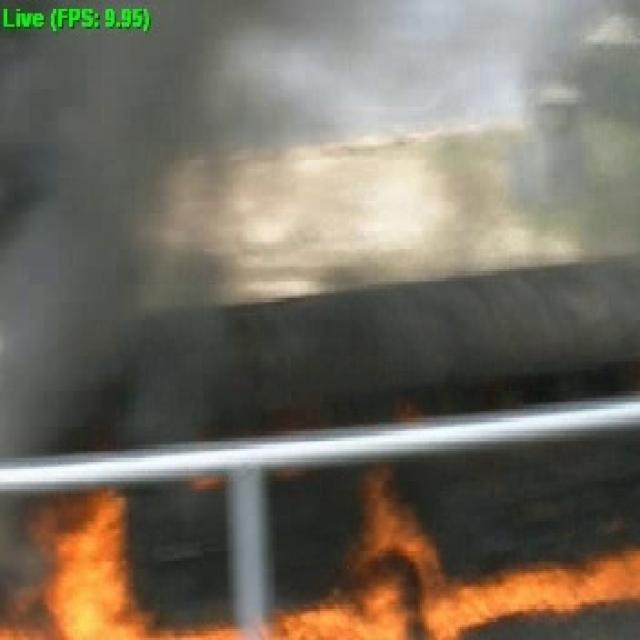Fire: (10, 464, 640, 640)
Smoke: (0, 0, 267, 431)
